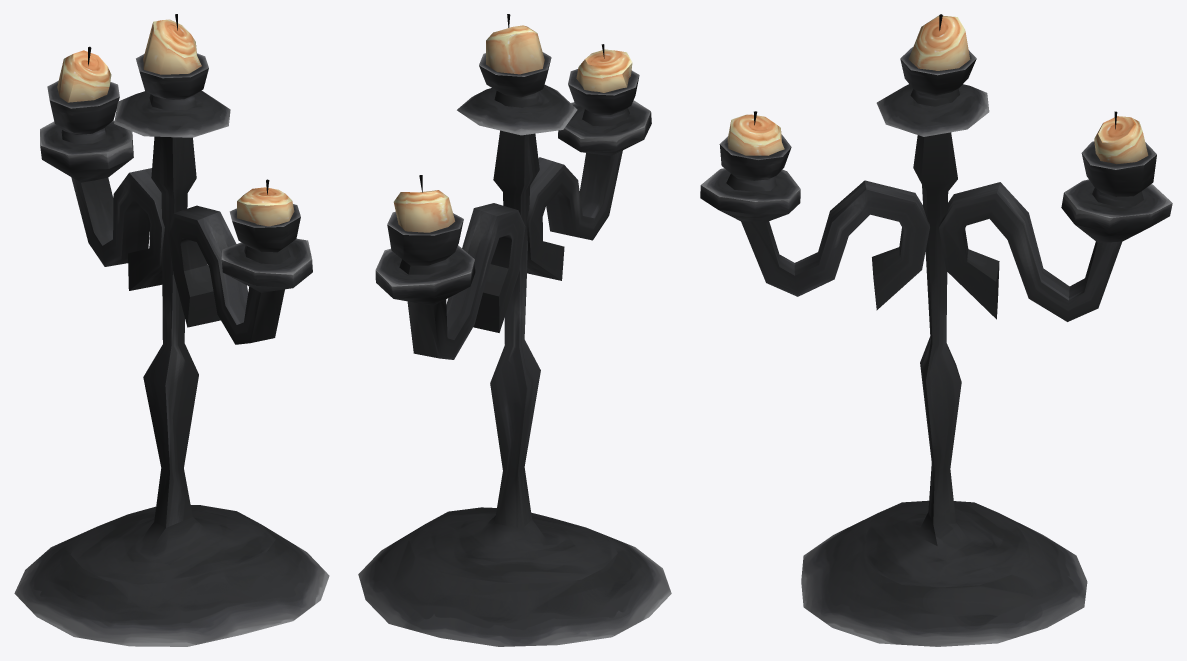
The model's file is SM_PROP_candle_dungeon_03.fbx.
The picture shows the model from 3 angles, left to right: view 1: azimuth 30°, elevation 25°; view 2: azimuth 150°, elevation 25°; view 3: azimuth 270°, elevation 25°; orthographic projection.
Visible parts, largest first — view 1: SM_PROP_candle_dungeon_03; view 2: SM_PROP_candle_dungeon_03; view 3: SM_PROP_candle_dungeon_03.
Boxes of the visible parts, bbox=[...] form: SM_PROP_candle_dungeon_03: bbox=[14, 14, 329, 646]; SM_PROP_candle_dungeon_03: bbox=[358, 14, 671, 646]; SM_PROP_candle_dungeon_03: bbox=[700, 14, 1172, 646].
Size of the model in its own units: 32.41 by 65.39 by 49.2.
